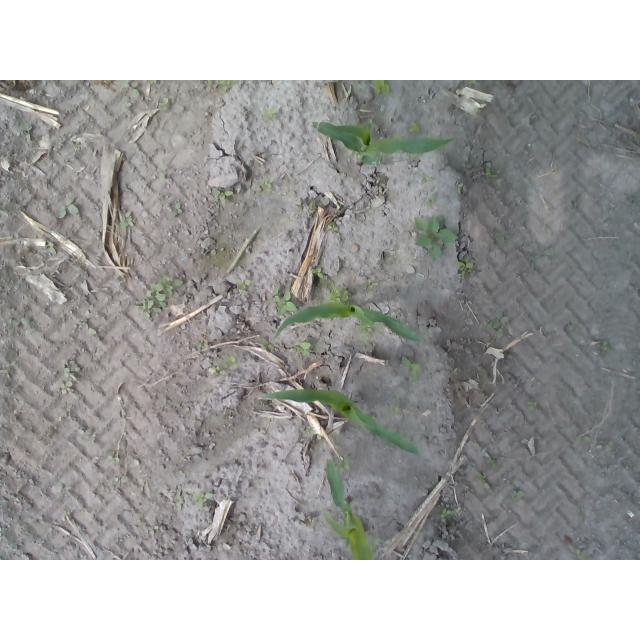Maize: (254, 383, 422, 456), (275, 295, 428, 348), (307, 121, 464, 168)
